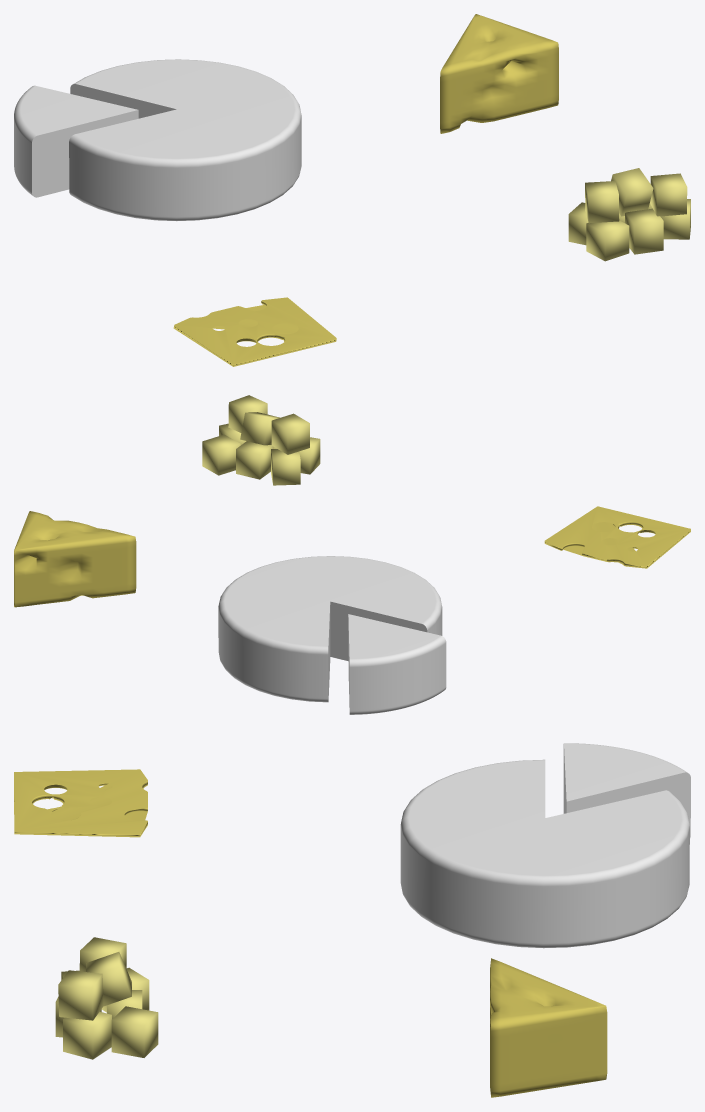
Rendered from LBSR_Cheeses.fbx.
The picture shows the model from 3 angles, top to bottom: view 1: azimuth 30°, elevation 25°; view 2: azimuth 150°, elevation 25°; view 3: azimuth 270°, elevation 25°; orthographic projection. The views are drawn at different scales.
Parts seen in each view (by area): view 1: Cheddar cheese wheel, Cheese Block, Cheddar cheese wheel block, Cheese Slice, Cheese Cube.007, Cheese Cube.003, Cheese Cube.005, Cheese Cube.004, Cheese Cube.008, Cheese Cube.001, Cheese Cube.006; view 2: Cheddar cheese wheel, Cheese Block, Cheddar cheese wheel block, Cheese Slice, Cheese Cube.008, Cheese Cube.002, Cheese Cube, Cheese Cube.006, Cheese Cube.004, Cheese Cube.005, Cheese Cube.007; view 3: Cheddar cheese wheel, Cheese Block, Cheese Slice, Cheddar cheese wheel block, Cheese Cube.002, Cheese Cube.005, Cheese Cube.001, Cheese Cube.004, Cheese Cube.008.
Boxes of the visible parts, x1=… form: Cheddar cheese wheel: x1=69, y1=59, x2=301, y2=221; Cheese Block: x1=440, y1=14, x2=558, y2=133; Cheddar cheese wheel block: x1=14, y1=85, x2=138, y2=197; Cheese Slice: x1=173, y1=297, x2=336, y2=366; Cheese Cube.007: x1=586, y1=220, x2=629, y2=261; Cheese Cube.003: x1=625, y1=208, x2=663, y2=254; Cheese Cube.005: x1=650, y1=173, x2=687, y2=216; Cheese Cube.004: x1=611, y1=168, x2=653, y2=216; Cheese Cube.008: x1=585, y1=181, x2=619, y2=223; Cheese Cube.001: x1=661, y1=199, x2=690, y2=239; Cheese Cube.006: x1=568, y1=202, x2=588, y2=245; Cheddar cheese wheel: x1=218, y1=556, x2=442, y2=702; Cheese Block: x1=14, y1=511, x2=136, y2=607; Cheddar cheese wheel block: x1=348, y1=614, x2=446, y2=714; Cheese Slice: x1=544, y1=506, x2=690, y2=568; Cheese Cube.008: x1=271, y1=413, x2=309, y2=454; Cheese Cube.002: x1=202, y1=434, x2=240, y2=475; Cheese Cube: x1=236, y1=441, x2=273, y2=479; Cheese Cube.006: x1=271, y1=449, x2=300, y2=485; Cheese Cube.004: x1=240, y1=412, x2=279, y2=445; Cheese Cube.005: x1=228, y1=395, x2=267, y2=432; Cheese Cube.007: x1=299, y1=437, x2=320, y2=474; Cheddar cheese wheel: x1=400, y1=759, x2=689, y2=948; Cheese Block: x1=490, y1=958, x2=607, y2=1097; Cheese Slice: x1=14, y1=769, x2=147, y2=837; Cheddar cheese wheel block: x1=563, y1=743, x2=690, y2=837; Cheese Cube.002: x1=111, y1=1006, x2=158, y2=1057; Cheese Cube.005: x1=58, y1=970, x2=103, y2=1020; Cheese Cube.001: x1=63, y1=1011, x2=111, y2=1059; Cheese Cube.004: x1=86, y1=952, x2=131, y2=1006; Cheese Cube.008: x1=79, y1=937, x2=126, y2=971.
Bounding box in the file's own units: 6 × 0.8011 × 5.66.
